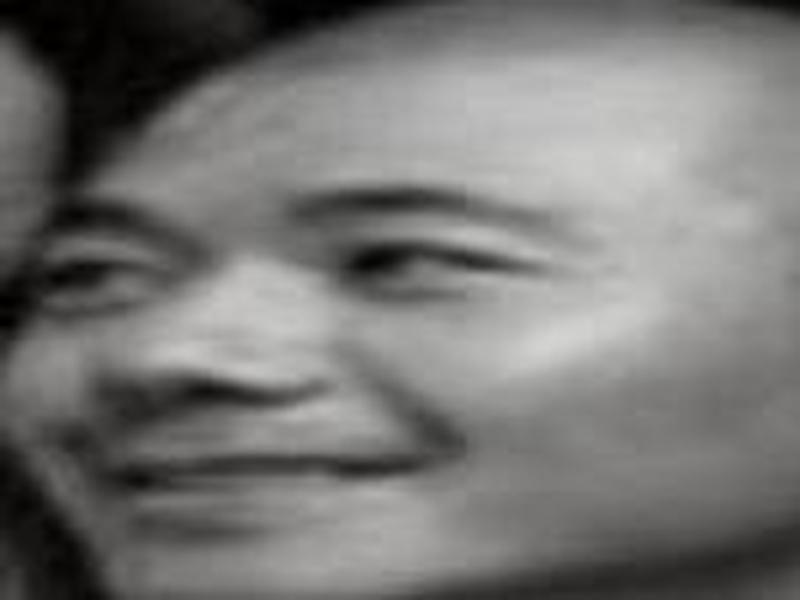without_mask: (10, 38, 744, 584)
